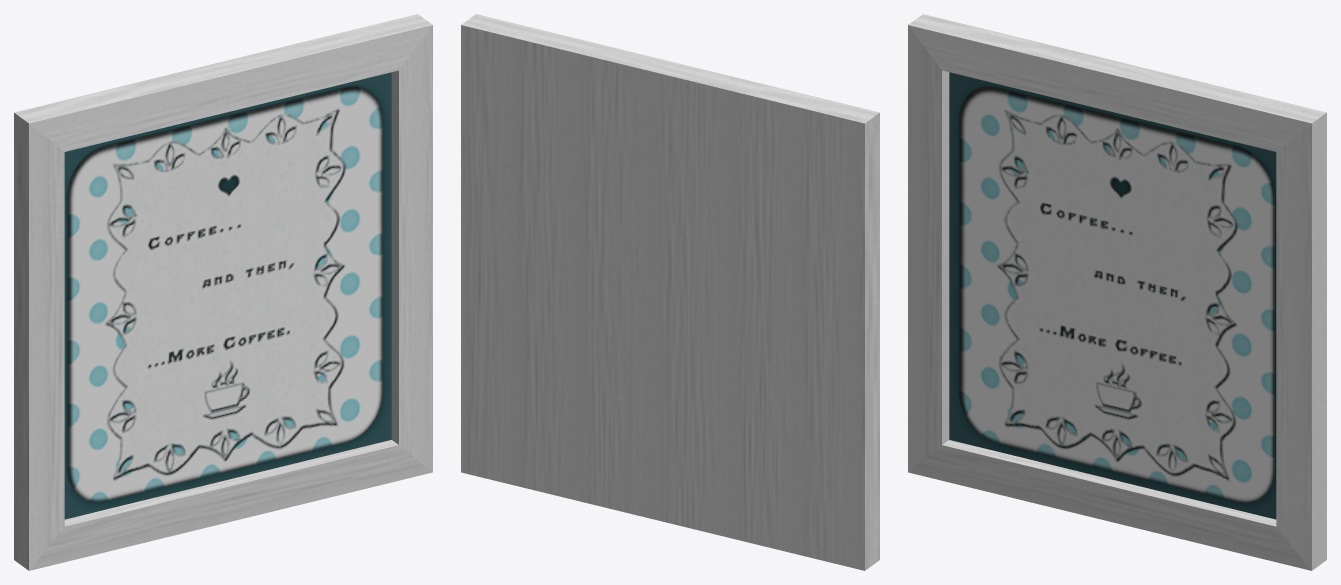
The model's file is Picture_SQ_03_A.FBX.
The picture shows the model from 3 angles, left to right: view 1: azimuth 30°, elevation 25°; view 2: azimuth 150°, elevation 25°; view 3: azimuth 330°, elevation 25°; orthographic projection.
Visible parts, largest first — view 1: Picture003; view 2: Picture003; view 3: Picture003.
Boxes of the visible parts, <box> form: Picture003: <box>14,14,432,570</box>; Picture003: <box>461,14,879,570</box>; Picture003: <box>908,14,1326,570</box>.
Bounding box in the file's own units: 62.04 × 65.68 × 4.21.
